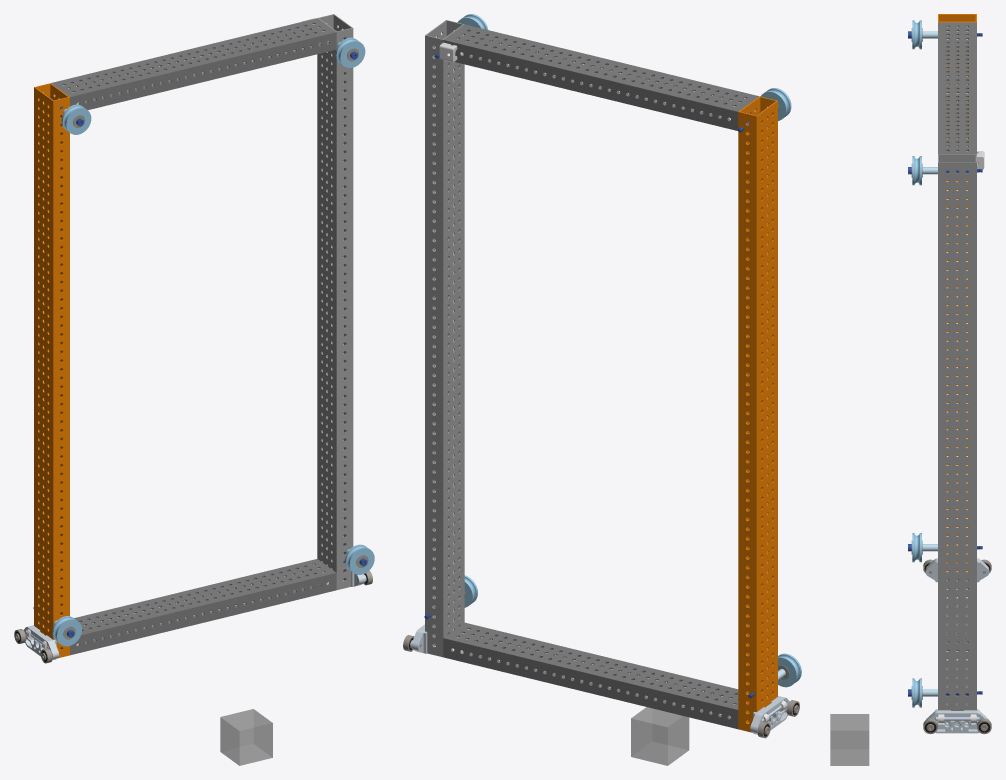
3 views of the same model, side by side, from view 1: azimuth 30°, elevation 25°; view 2: azimuth 150°, elevation 25°; view 3: azimuth 270°, elevation 25° (orthographic). The views are drawn at different scales.
Parts seen in each view (by area): view 1: 1625-25-P-02303, 1625-25-P-02301, 1625-25-P-02302 (×2), Origin Cube (×2); view 2: 1625-25-P-02301, 1625-25-P-02303, 1625-25-P-02302 (×2), Origin Cube (×2), WCP-0897-001 Rev1; view 3: 1625-25-P-02303, 1625-25-P-02302, Origin Cube (×2), WCP-0897-001 Rev1 (×2), 1625-25-P-02301.
Boxes of the visible parts, x1,y1,x2,y2 form: 1625-25-P-02303: (317, 14, 353, 589); 1625-25-P-02301: (34, 83, 69, 658); 1625-25-P-02302 (×2): (51, 18, 336, 655); Origin Cube (×2): (220, 709, 272, 765); 1625-25-P-02301: (738, 96, 777, 732); 1625-25-P-02303: (425, 20, 464, 657); 1625-25-P-02302 (×2): (443, 24, 758, 729); Origin Cube (×2): (631, 707, 688, 765); WCP-0897-001 Rev1: (750, 696, 789, 734); 1625-25-P-02303: (938, 154, 976, 723); 1625-25-P-02302: (938, 22, 976, 154); Origin Cube (×2): (830, 714, 868, 765); WCP-0897-001 Rev1 (×2): (925, 558, 989, 733); 1625-25-P-02301: (938, 14, 976, 571).
Size of the model in its own units: 0.4988 by 0.9589 by 0.2095.
